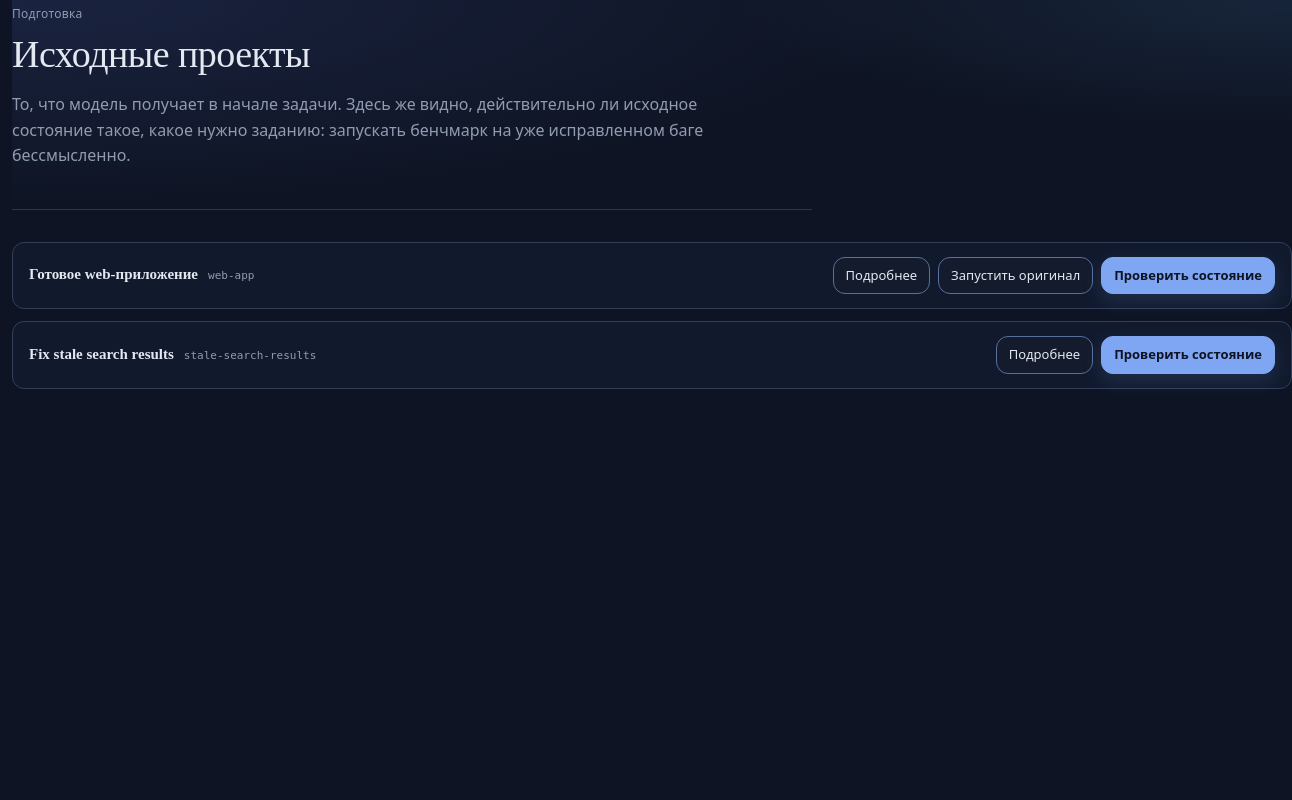
Test: исходные проекты › показывает состояние fixture и объясняет ожидаемое падение скрытой проверки
expect the heading "Fix stale search results" is shown: met, box [29,346,174,363]
Click the button "Проверить состояние" in the row of "stale-search-results".
click(1188, 355)  # box [1101,336,1275,374]
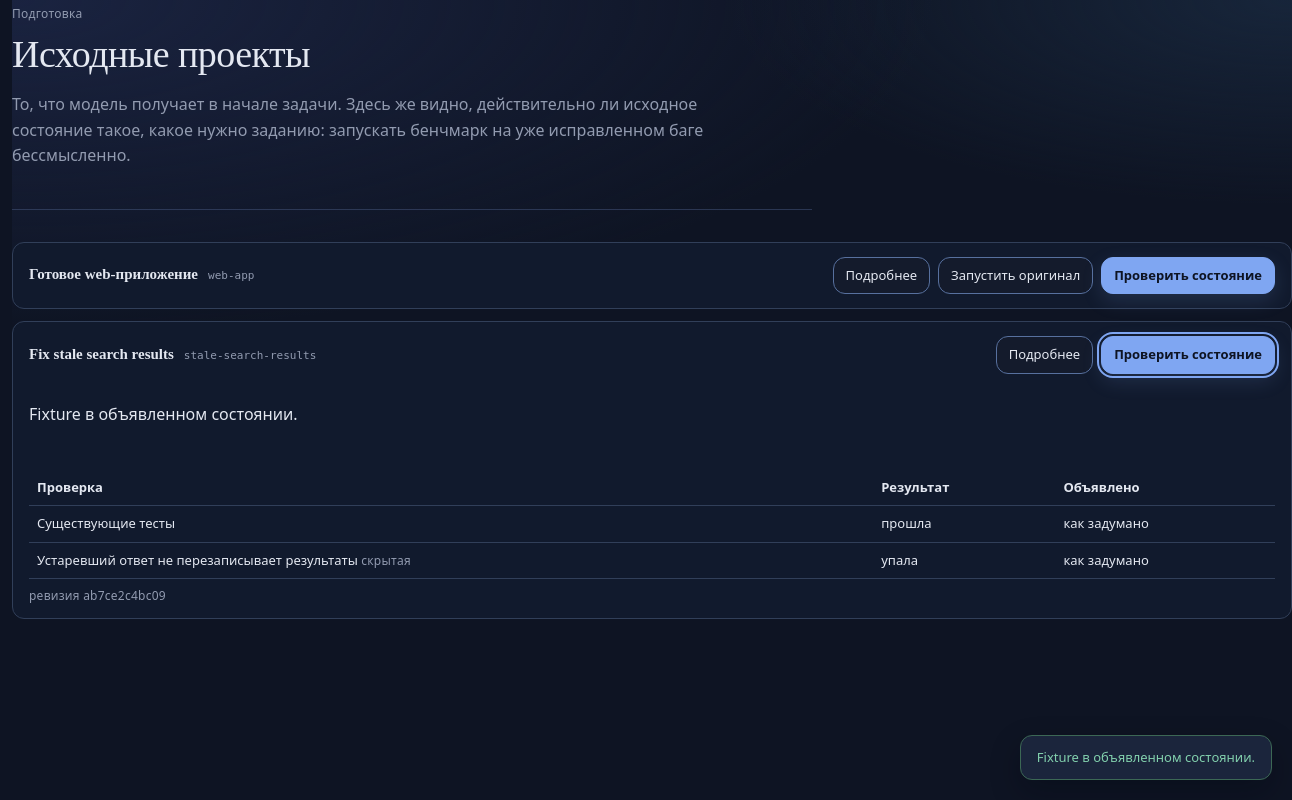
expect the text "Fixture в объявленном состоянии." below "Fix stale search results" is shown: met, box [29,403,298,425]
expect the text "Устаревший ответ не перезаписывает результаты" shows "упала": met, box [881,551,918,569]
expect the text "Устаревший ответ не перезаписывает результаты" shows "как задумано": met, box [1063,551,1149,569]
